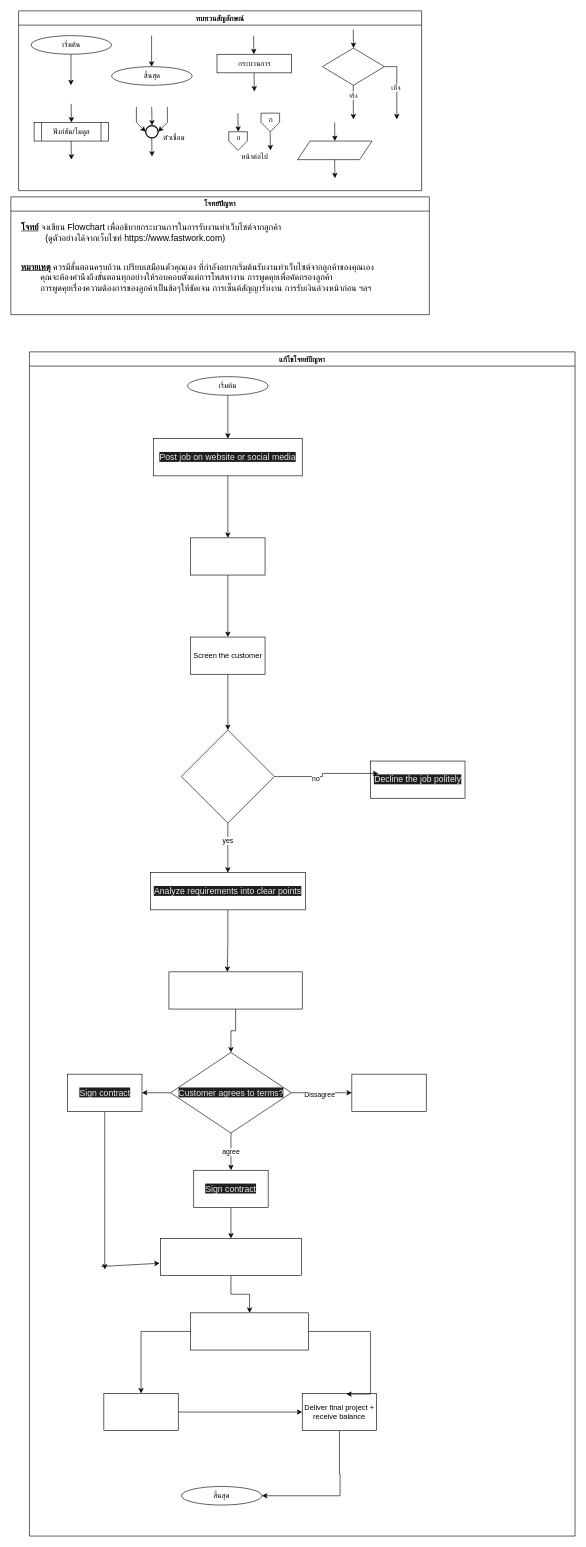
The diagram is 586 pixels wide and 1547 high, and some of its shapes have lost their labels. Each missing label, with the centre of its shape:
"Collect upfront payment (deposit)" goes at [230,1257].
"Customer inquires" goes at [227,556].
"Customer suitable?" goes at [227,776].
"Provide quote + time frame" goes at [235,990].
"Renegotiate or end discussion" goes at [388,1092].
"Send for customer review" goes at [140,1412].
"Start design and development" goes at [249,1331].
"ประโยคเงื่อนไข" goes at [353,66].
"แสดงผล/รับค่า" goes at [334,150].
